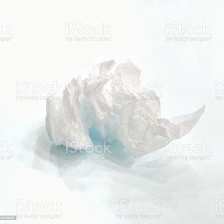tissue: (38, 52, 210, 170)
